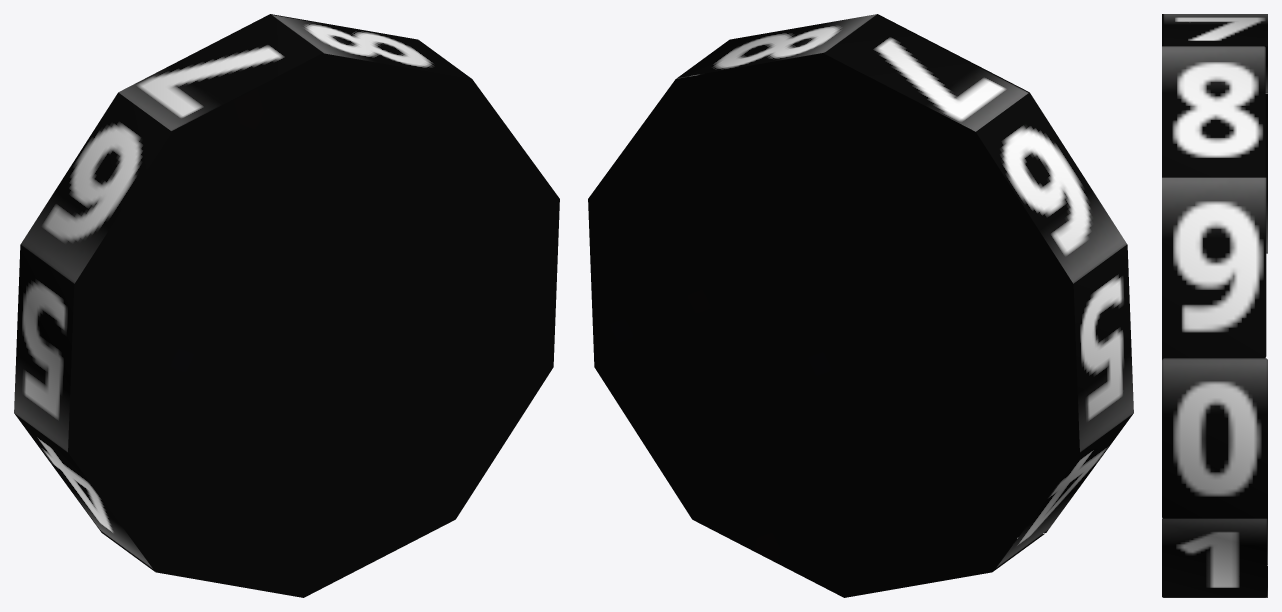
The model's file is gauge_reversae.obj.
3 renders of one model, left to right at view 1: azimuth 30°, elevation 25°; view 2: azimuth 150°, elevation 25°; view 3: azimuth 270°, elevation 25°, orthographic.
Parts seen in each view (by area): view 1: gague; view 2: gague; view 3: gague.
Part boxes in pixels (box(x1,y1,x2,y2)): gague: box(14, 14, 559, 597); gague: box(588, 14, 1133, 597); gague: box(1162, 14, 1267, 597).
Size of the model in its own units: 3.59 by 3.76 by 0.6821.
